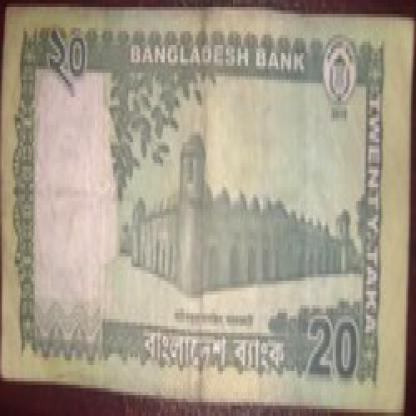Twenty: (36, 28, 107, 100), (301, 312, 361, 385)
